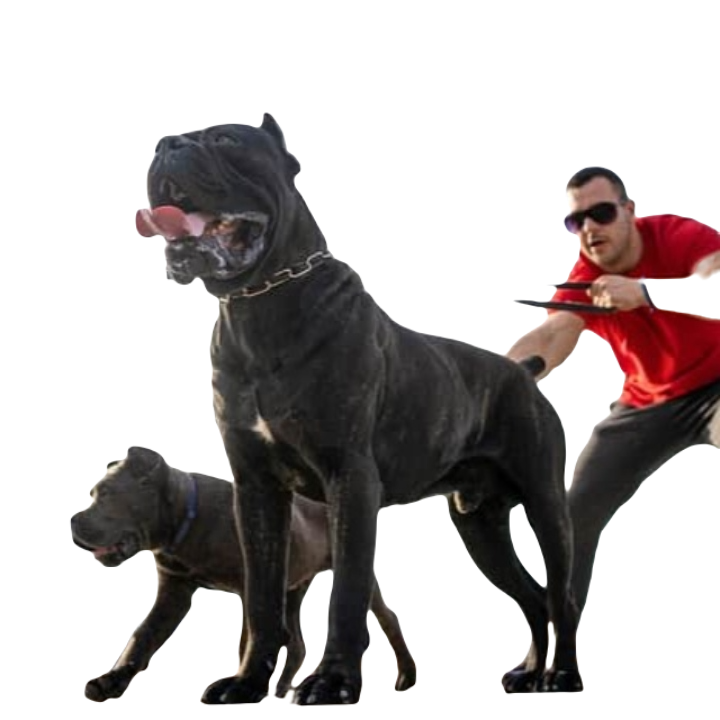Dog: (130, 114, 581, 700)
